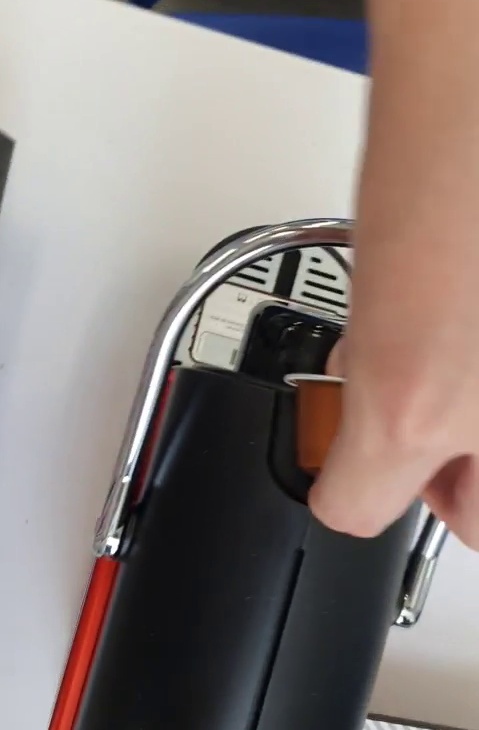capsule_3: (282, 370, 391, 481)
